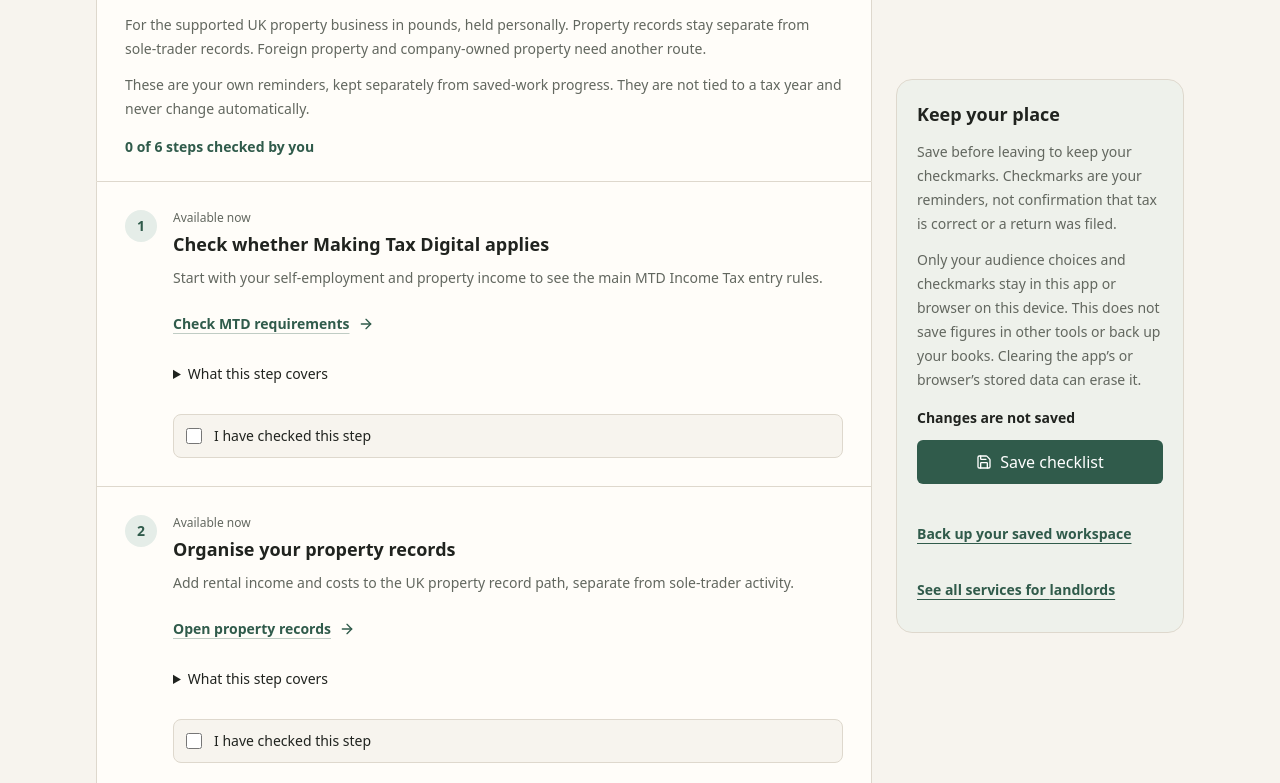
Scenario: My tax year and personal checklist › does not overwrite changes made by another tab
(page scrolled)
Step 1. Click the checkbox labelled "I have checked this step" below "Check MTD requirements" → (194, 436), box [186,428,202,444]
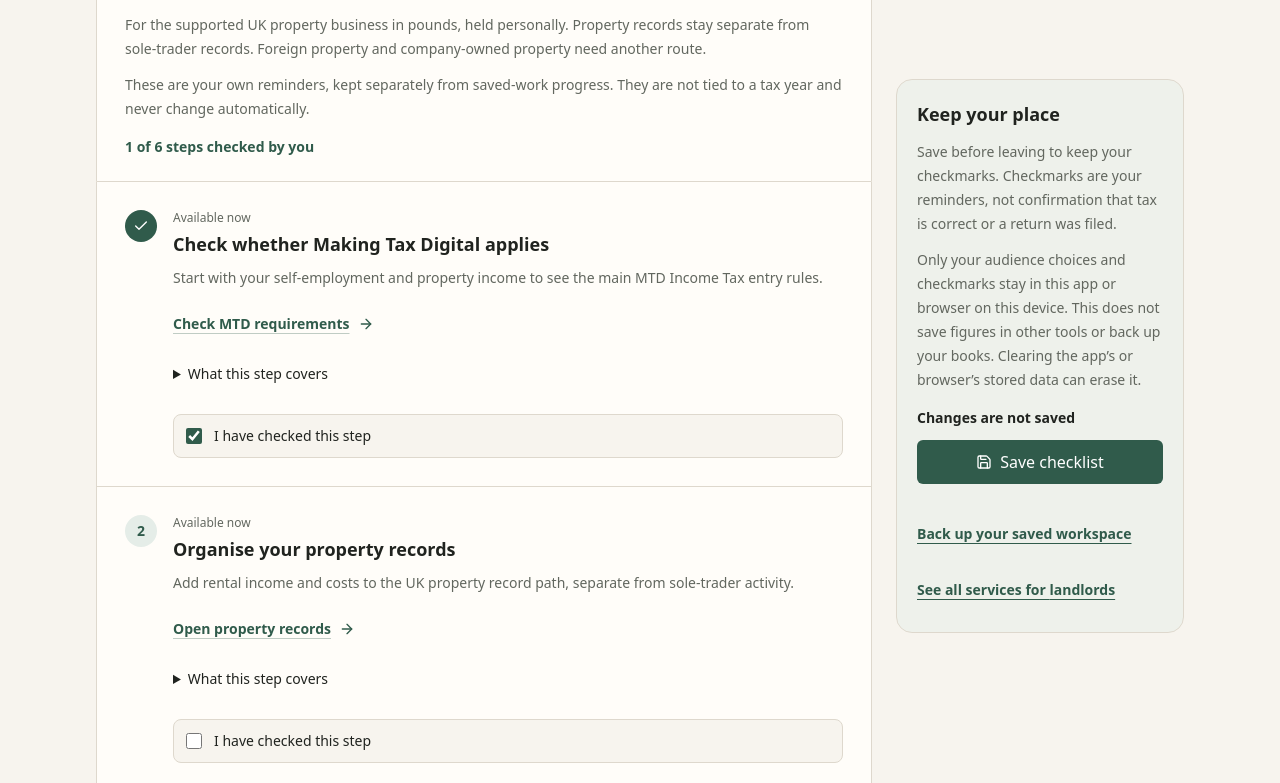
Step 2. Click the button "Save checklist" → (1040, 462), box [917,440,1163,484]
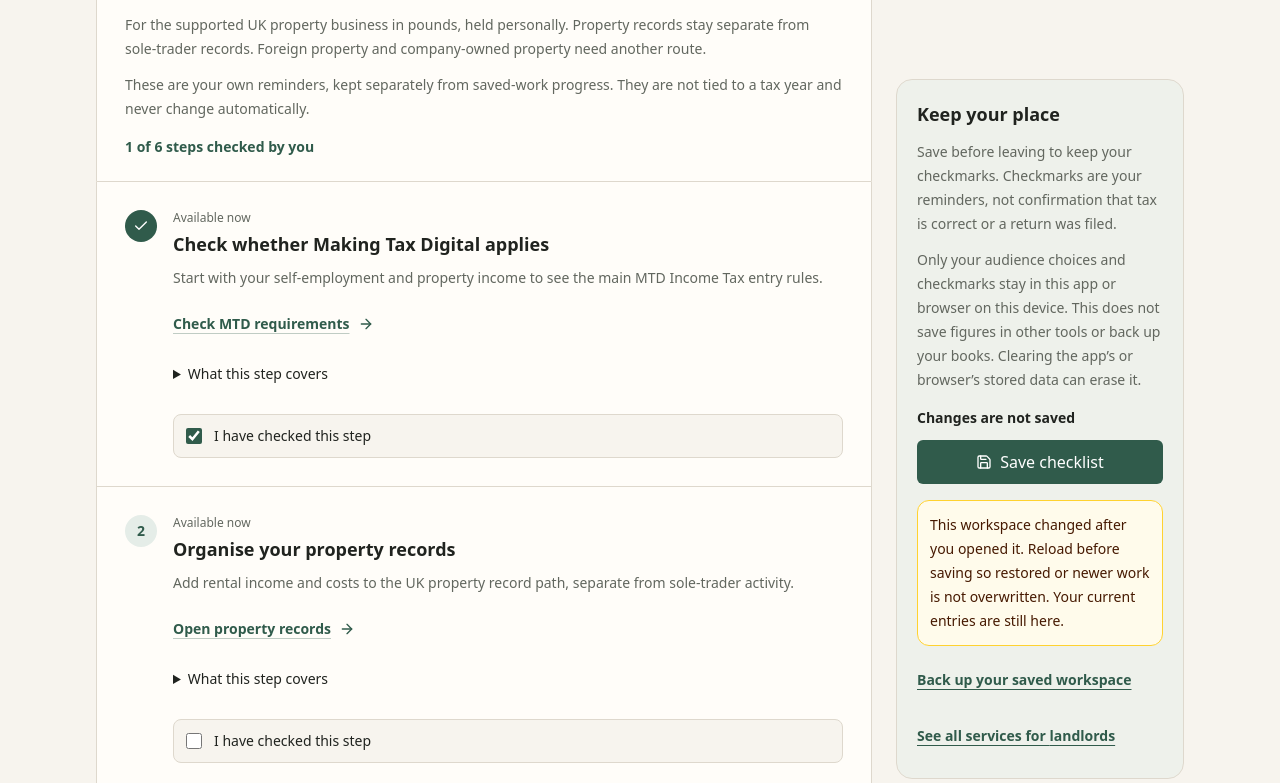
expect the checkbox labelled "I have checked this step" below "Check MTD requirements" is checked: met, box [186,428,202,444]
expect the message shows "workspace changed": met, box [930,515,1150,630]
